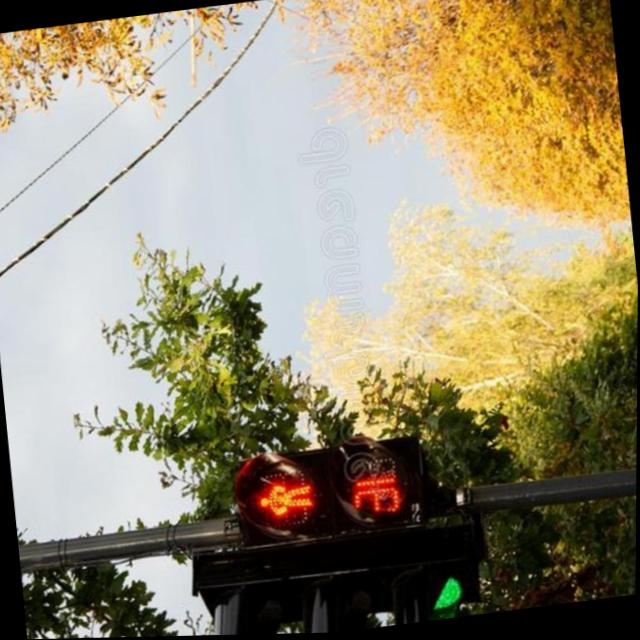red_light: (242, 469, 320, 527)
